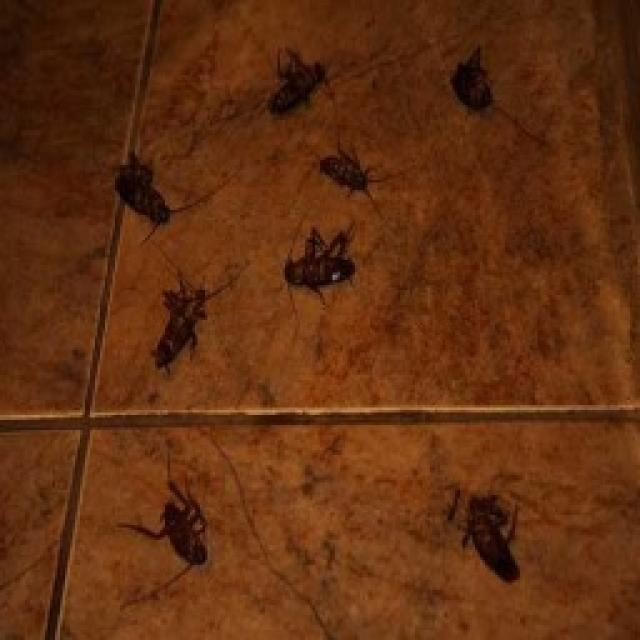cockroach: (437, 482, 543, 602), (122, 479, 222, 593), (97, 144, 208, 245), (139, 266, 229, 390), (261, 219, 381, 296), (434, 31, 520, 130), (254, 48, 340, 125), (307, 140, 394, 208)
